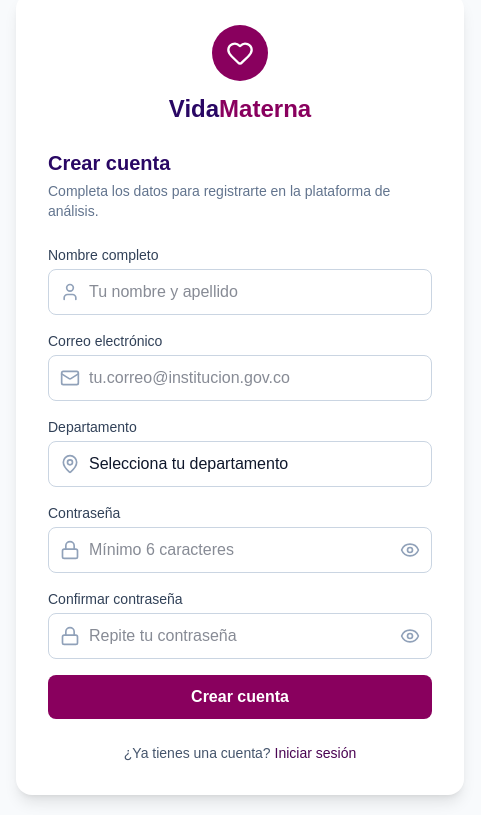
Test: Register › muestra el error del servidor
Type "Ana Pérez" into the field labelled "Nombre completo". click: (240, 292)
box: [48,269,432,315]
Type "ana@test.com" into the field labelled "Correo electrónico". click: (240, 378)
box: [48,355,432,401]
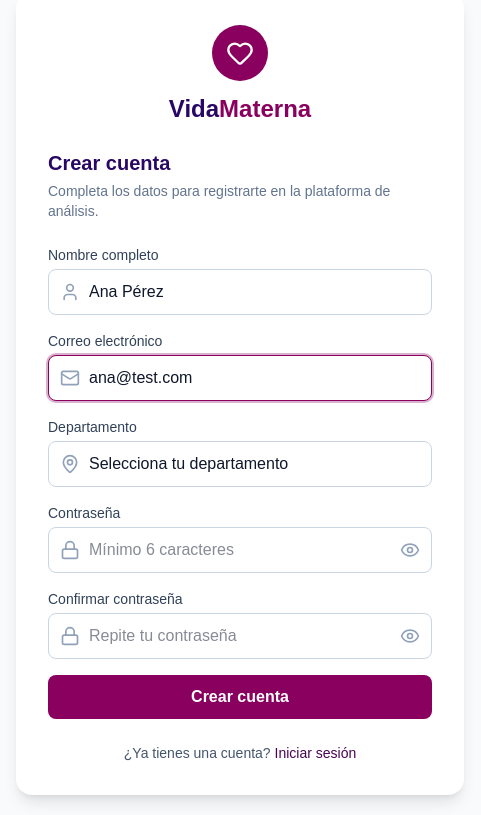
Select "Antioquia" in the dropdown labelled "Departamento". click: (240, 464)
box: [48,441,432,487]
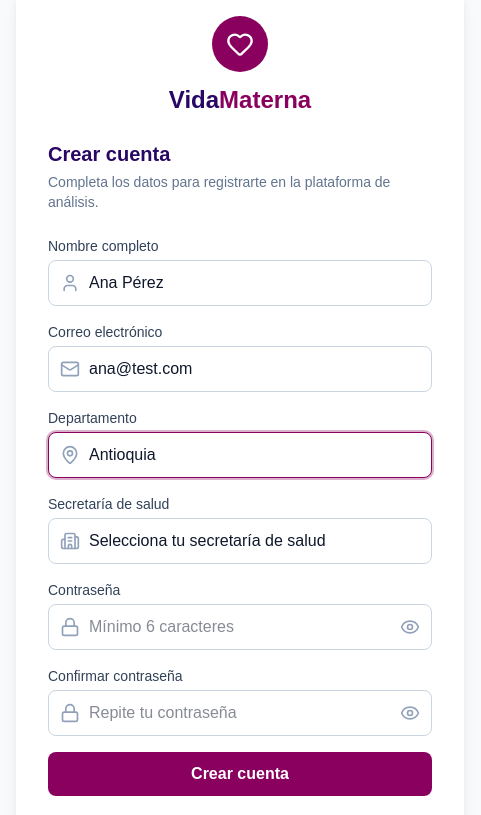
Select "Secretaría de Salud de Bello" in the dropdown labelled "Secretaría de salud". click: (240, 541)
box: [48,518,432,564]
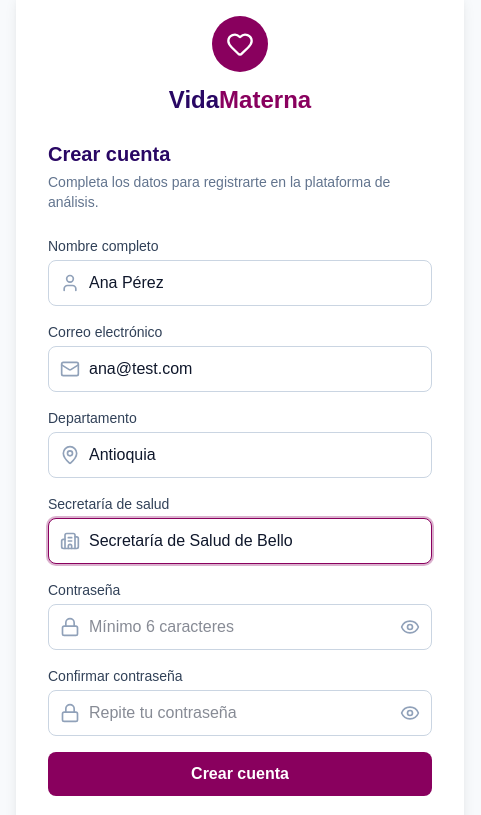
Type "secreto1" into the password field labelled "Contraseña". click: (240, 627)
box: [48,604,432,650]
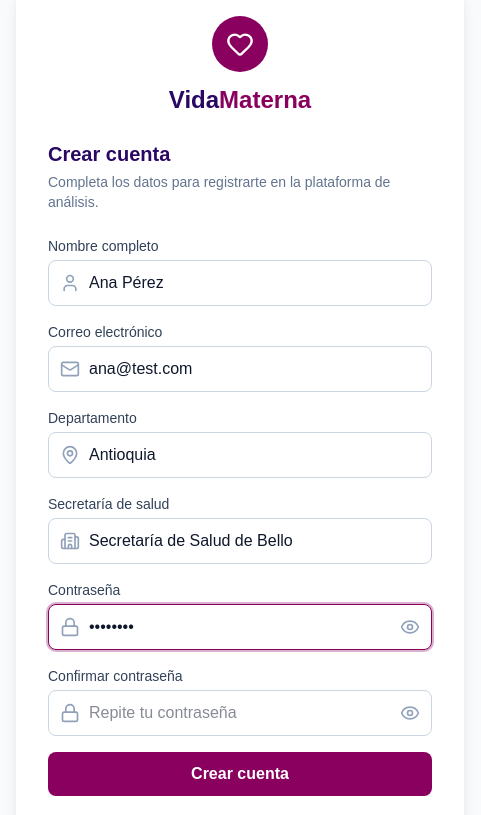
Type "secreto1" into the password field labelled "Confirmar contraseña". click: (240, 713)
box: [48,690,432,736]
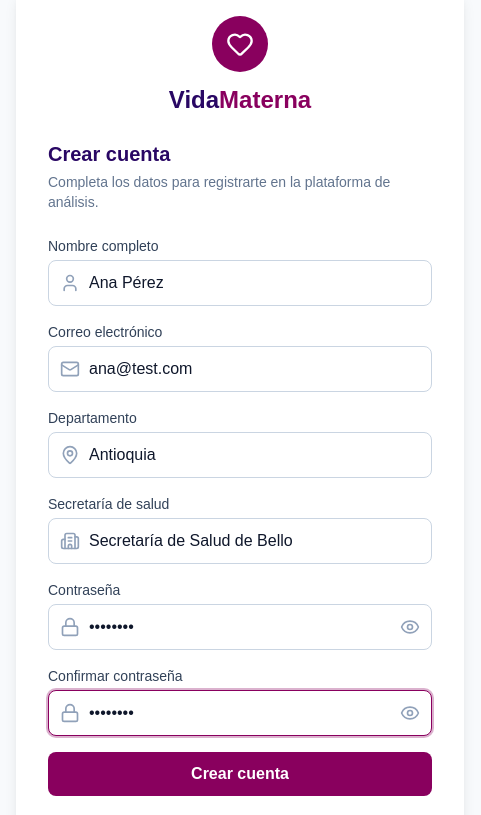
Click the button "Crear cuenta". click: click(240, 774)
box: [48,752,432,796]
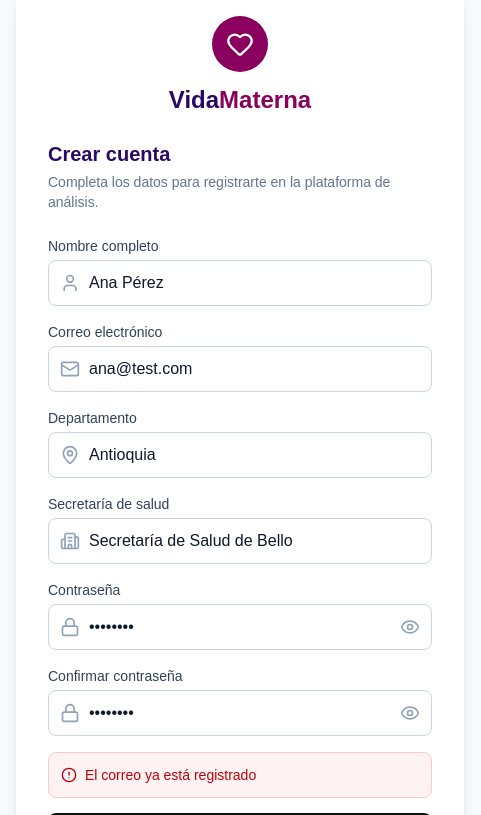
Expected: the message reads "El correo ya está registrado", [85,767,256,783]
